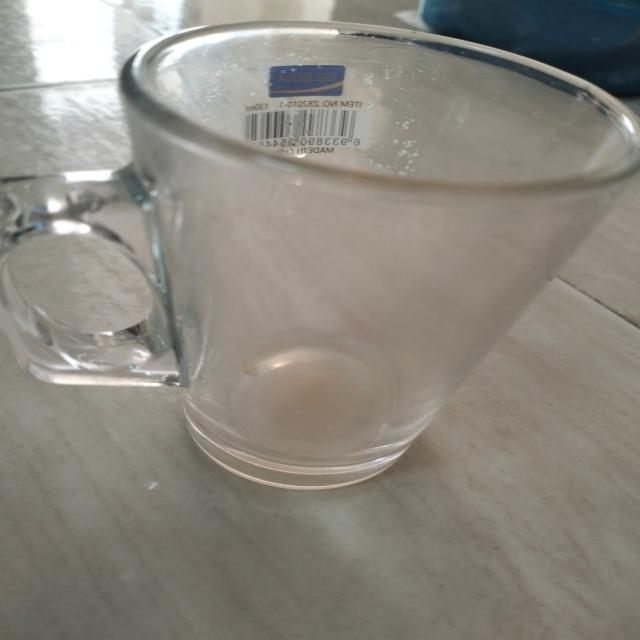glass-VX4N: (3, 14, 640, 484)
